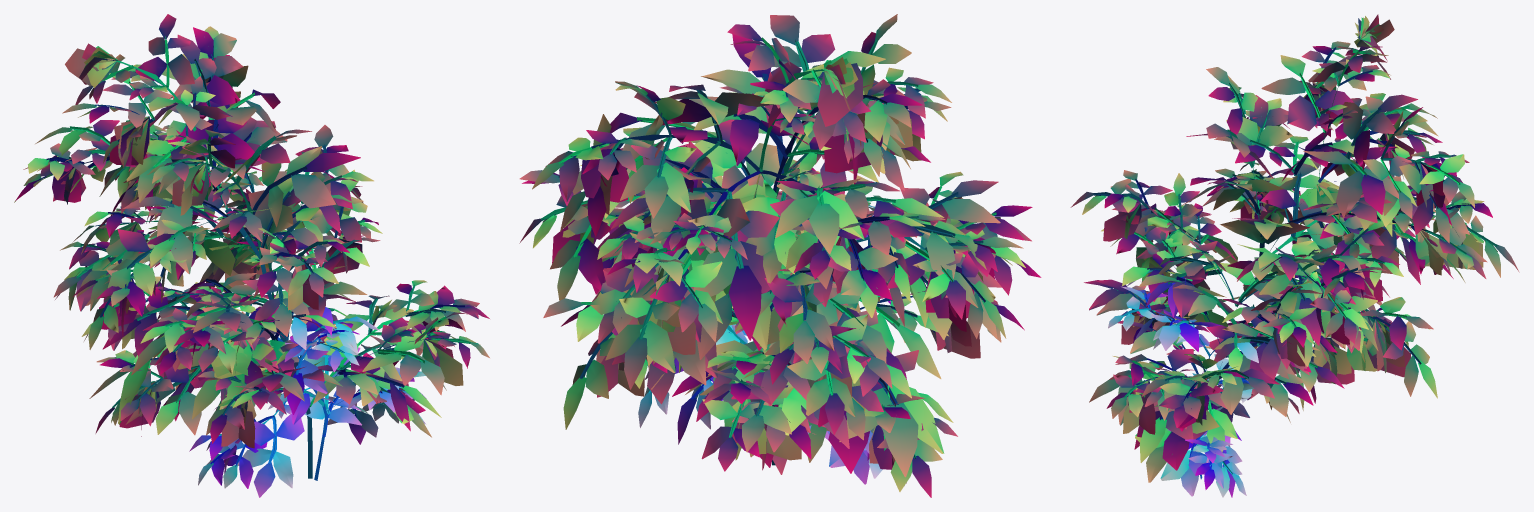
File: Elderberry_wfzobb2ia_Mid_wfzobb2ia_VarA_LOD0.fbx
3 views of the same model, side by side, from view 1: azimuth 30°, elevation 25°; view 2: azimuth 150°, elevation 25°; view 3: azimuth 270°, elevation 25° (orthographic). The views are drawn at different scales.
Parts seen in each view (by area): view 1: _a0m9_VarA_LOD1; view 2: _a0m9_VarA_LOD1; view 3: _a0m9_VarA_LOD1.
Part boxes in pixels (x1,y1,x2,y2): _a0m9_VarA_LOD1: (14,14,489,497); _a0m9_VarA_LOD1: (519,14,1041,497); _a0m9_VarA_LOD1: (1070,14,1519,497).
Bounding box in the file's own units: 110 × 119 × 119.
